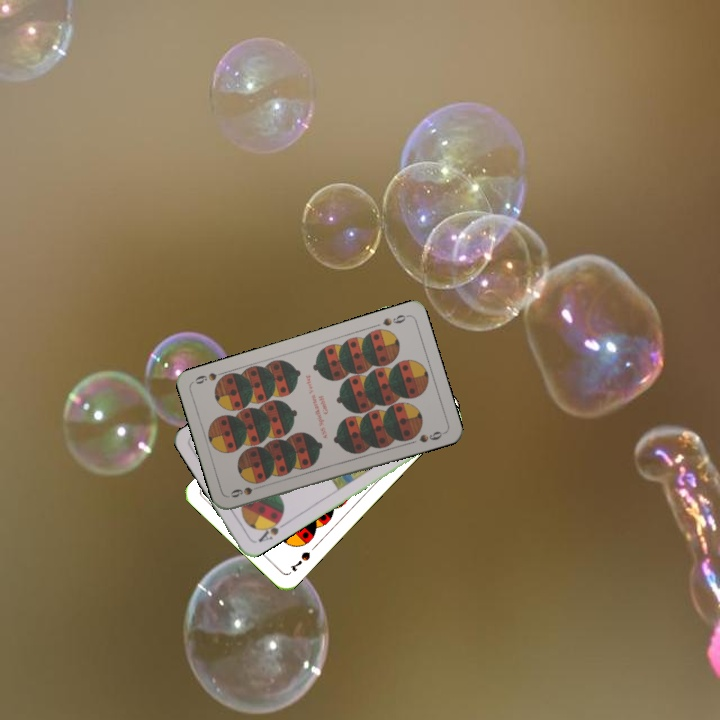S7: (286, 548, 313, 574)
S9: (226, 481, 266, 500), (378, 311, 411, 329)
SA: (254, 513, 289, 545)
